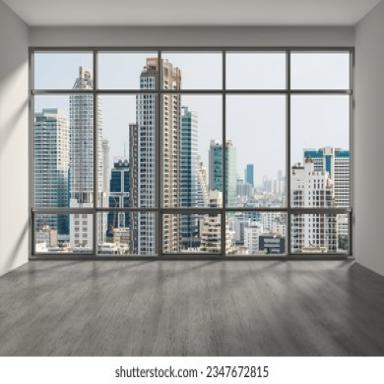glass_panel: (32, 94, 102, 208), (290, 94, 350, 208), (98, 94, 158, 208), (162, 93, 222, 207), (225, 95, 286, 207), (162, 210, 224, 255), (96, 211, 156, 257), (228, 211, 286, 257), (225, 52, 286, 91), (34, 52, 94, 91), (35, 213, 92, 254), (292, 214, 350, 254), (290, 52, 350, 89), (98, 52, 158, 89), (162, 52, 222, 89)
